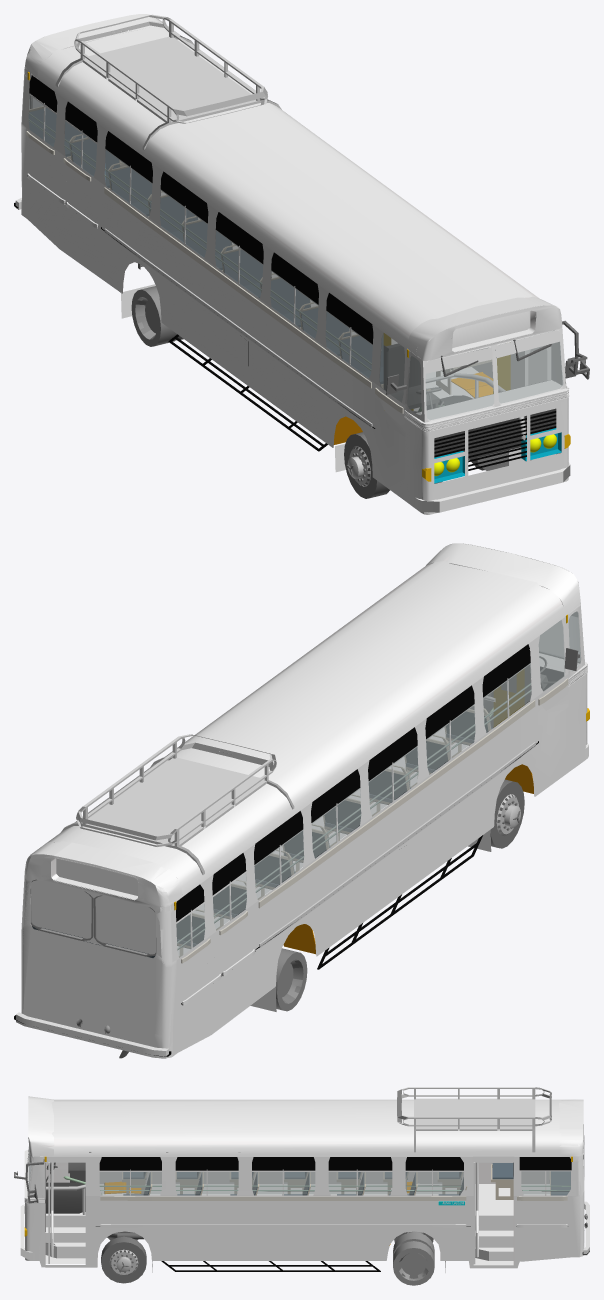
File: b_viking.glb
3 renders of one model, top to bottom at view 1: azimuth 30°, elevation 25°; view 2: azimuth 150°, elevation 25°; view 3: azimuth 270°, elevation 25°, orthographic. The views are drawn at different scales.
Visible parts, largest first — view 1: Object_6, Object_78, Object_17, Object_8, Object_43, Object_25, Object_57, Object_3, Object_22, Object_60, Object_19, Object_4 (+6 smaller); view 2: Object_6, Object_78, Object_17, Object_8, Object_18, Object_43, Object_57, Object_25, Object_60, Object_35, Object_19, Object_42 (+6 smaller); view 3: Object_6, Object_78, Object_8, Object_17, Object_25, Object_43, Object_57, Object_20, Object_42, Object_11, Object_44, Object_3 (+5 smaller).
Part boxes in pixels (box(x1,y1,x2,y2)): Object_6: box(21, 14, 569, 514); Object_78: box(28, 95, 563, 420); Object_17: box(55, 14, 281, 150); Object_8: box(14, 75, 556, 470); Object_43: box(29, 108, 383, 383); Object_25: box(22, 44, 562, 484); Object_57: box(26, 131, 403, 413); Object_3: box(434, 395, 556, 459); Object_22: box(415, 462, 570, 512); Object_60: box(104, 150, 372, 427); Object_19: box(131, 286, 178, 346); Object_4: box(384, 343, 439, 409); Object_6: box(21, 543, 587, 1058); Object_78: box(176, 611, 581, 957); Object_17: box(61, 734, 294, 874); Object_8: box(14, 644, 538, 1056); Object_18: box(25, 875, 155, 955); Object_43: box(32, 711, 492, 957); Object_57: box(181, 678, 568, 963); Object_25: box(30, 556, 582, 1042); Object_60: box(254, 664, 535, 947); Object_35: box(16, 1012, 169, 1058); Object_19: box(275, 948, 307, 1011); Object_42: box(119, 706, 491, 957); Object_6: box(24, 1096, 584, 1272); Object_78: box(28, 1149, 570, 1194); Object_8: box(96, 1155, 589, 1271); Object_17: box(397, 1087, 551, 1152); Object_25: box(27, 1102, 571, 1267); Object_43: box(123, 1162, 570, 1195); Object_57: box(100, 1196, 567, 1200); Object_20: box(393, 1232, 434, 1285); Object_42: box(122, 1164, 550, 1199); Object_11: box(101, 1231, 146, 1283); Object_44: box(99, 1185, 570, 1191); Object_3: box(45, 1163, 85, 1231).
Bounding box in the file's own units: 3.15 × 3.86 × 12.61.
